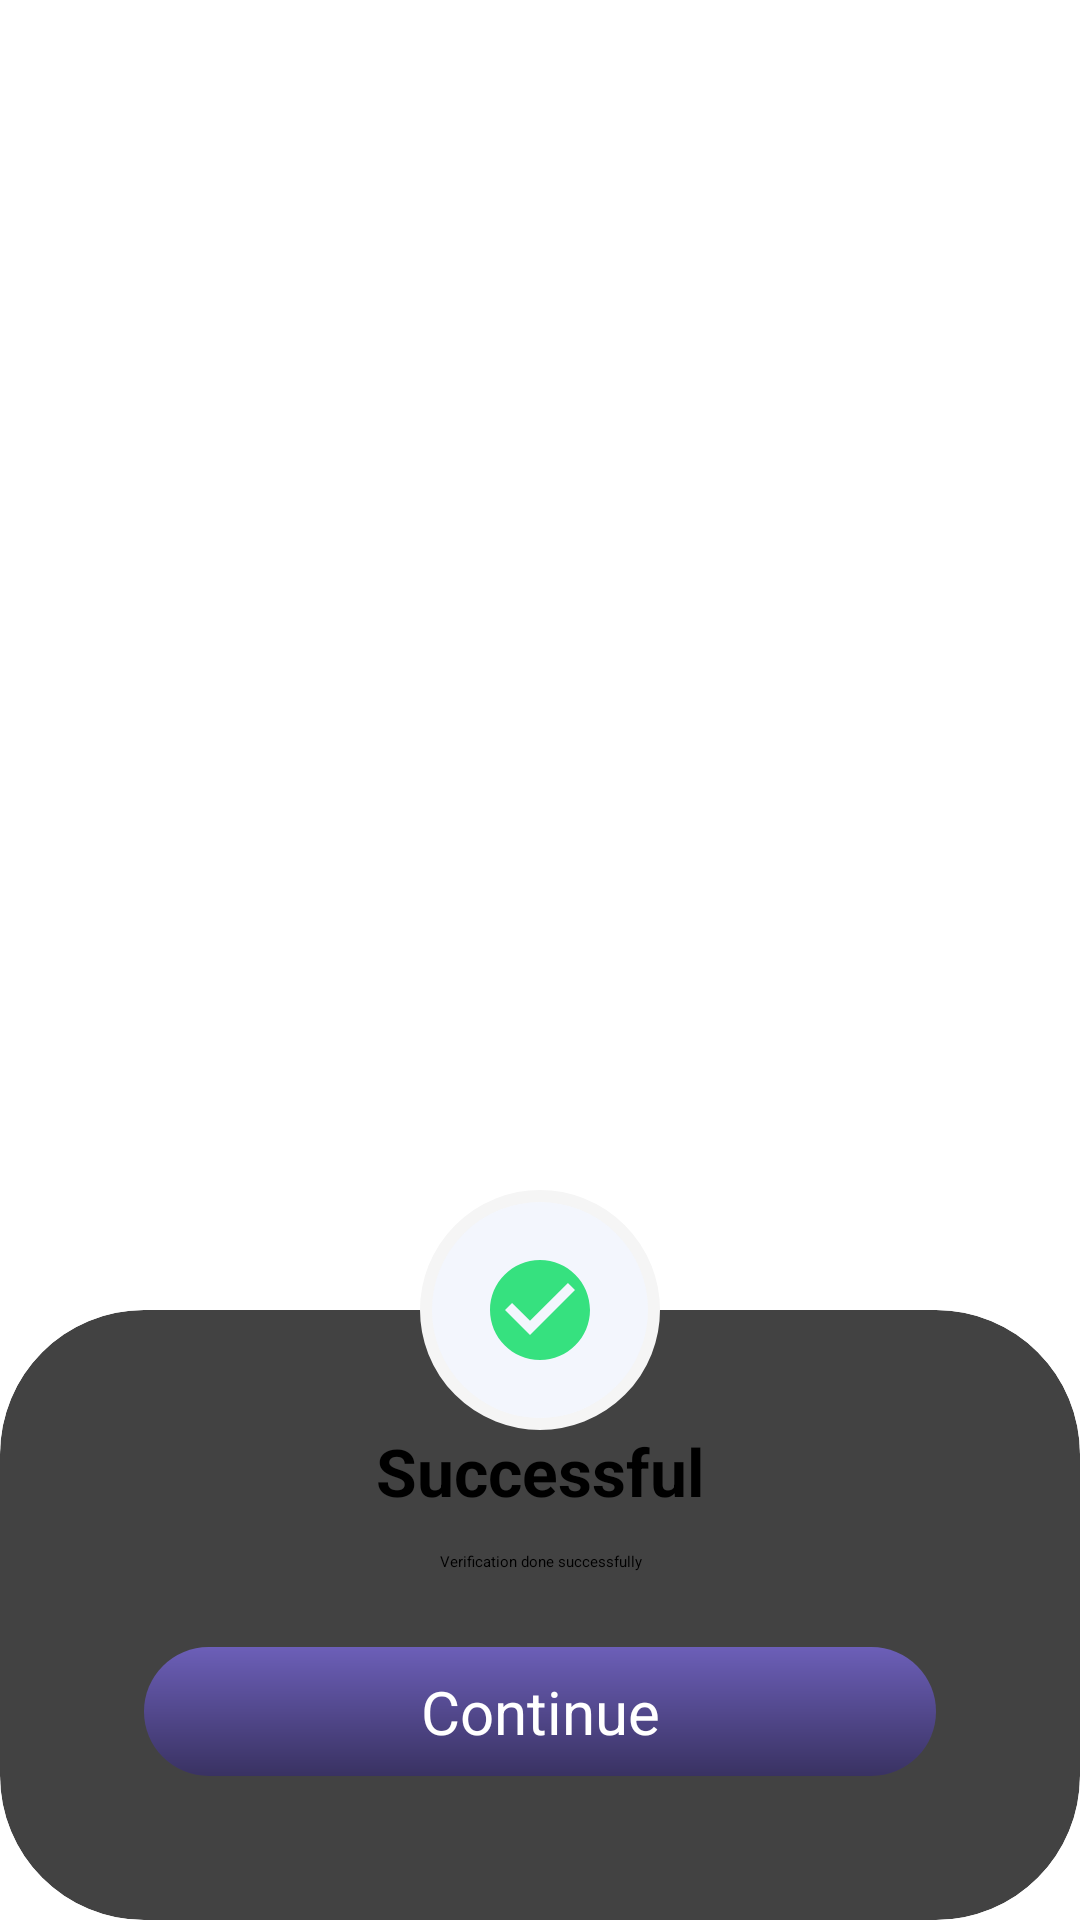

Icon click points for this 1080px x 1920px phone screenshot, format point (x, y):
check circle: point (540, 1310)
